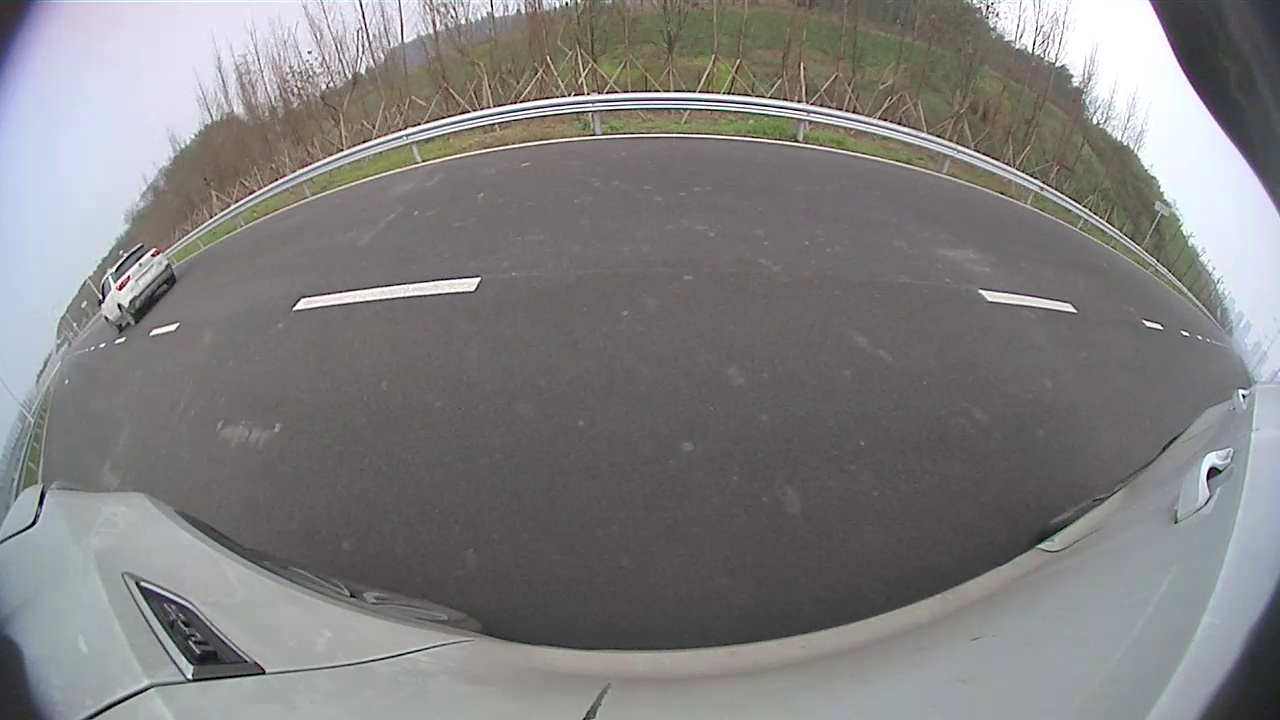car: (699, 143, 794, 202)
front: (698, 172, 712, 194)
rear: (722, 173, 739, 199)
